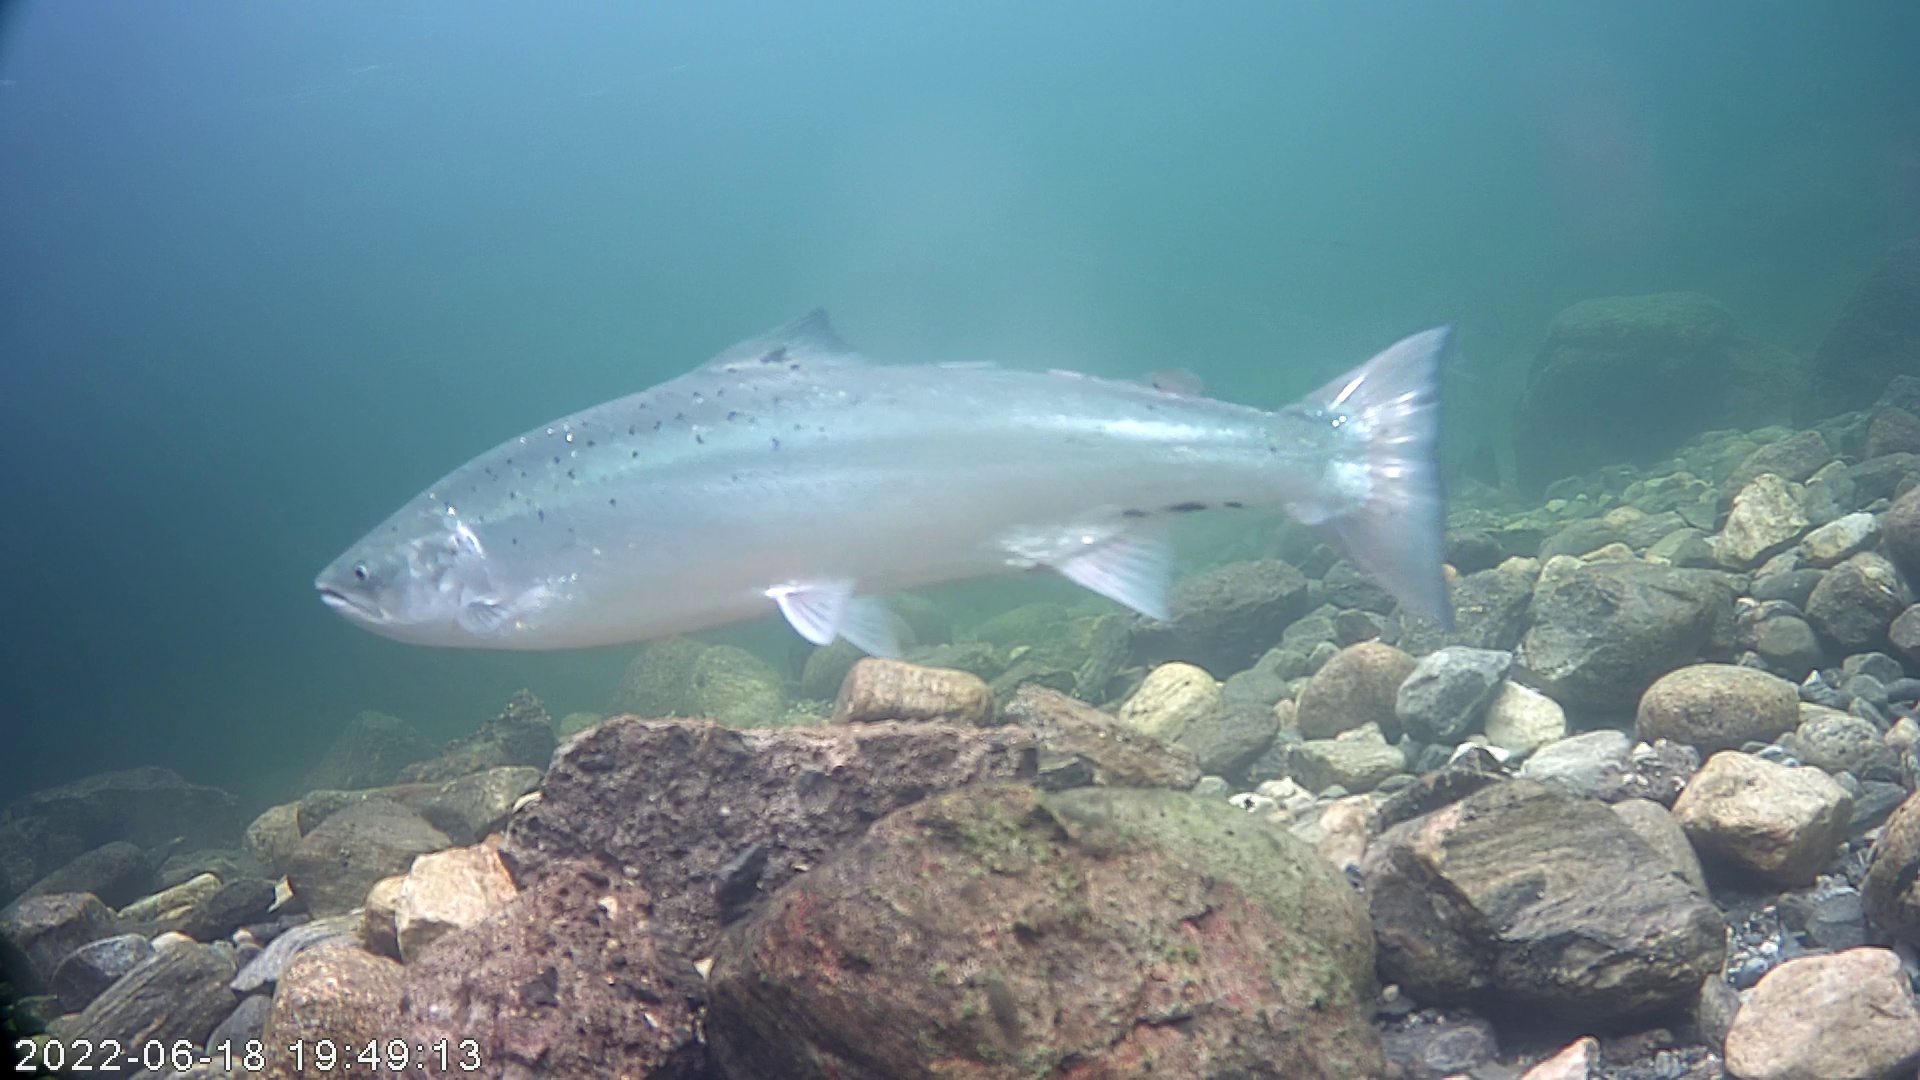salmon: (313, 301, 1458, 662)
